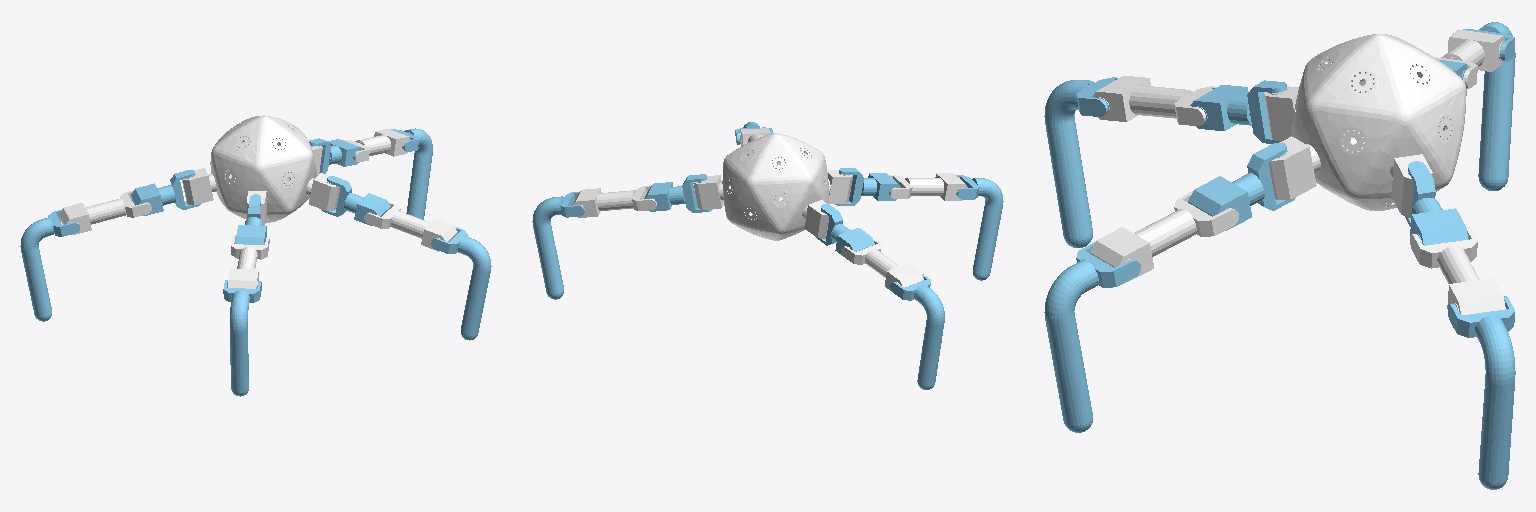
URDF robot description (spiderV1):
<?xml version="1.0" encoding="utf-8"?>
<!-- This URDF was automatically created by SolidWorks to URDF Exporter! Originally created by [author] ([email redacted]) 
     Commit Version: 1.6.0-1-g15f4949  Build Version: 1.6.7594.29634
     For more information, please see http://wiki.ros.org/sw_urdf_exporter -->
<robot
  name="spiderV1">
  <link
    name="body">
    <inertial>
      <origin
        xyz="-1.12657634616443E-06 -0.0120586213354123 0.0464637399514405"
        rpy="0 0 0" />
      <mass
        value="0.725004971927433" />
      <inertia
        ixx="0.00397015516610743"
        ixy="3.16527990957326E-09"
        ixz="2.7501749356732E-08"
        iyy="0.00509665824727541"
        iyz="-0.000112720343179442"
        izz="0.00640051298538735" />
    </inertial>
    <visual>
      <origin
        xyz="0 0 0"
        rpy="0 0 0" />
      <geometry>
        <mesh
          filename="package://spiderV1/meshes/body.STL" />
      </geometry>
      <material
        name="white">
        <color
          rgba="1 1 1 1" />
      </material>
    </visual>
    <collision>
      <origin
        xyz="0 0 0"
        rpy="0 0 0" />
      <geometry>
        <mesh
          filename="package://spiderV1/meshes/body.STL" />
      </geometry>
    </collision>
  </link>
  <link
    name="00">
    <inertial>
      <origin
        xyz="-3.39491982303403E-06 -3.39491982300627E-06 0.0634401392063371"
        rpy="0 0 0" />
      <mass
        value="0.111045661776905" />
      <inertia
        ixx="9.83066790099248E-05"
        ixy="1.27985462202571E-12"
        ixz="-6.57477758498197E-09"
        iyy="9.82820252429534E-05"
        iyz="-6.57477758503417E-09"
        izz="3.28395202168772E-05" />
    </inertial>
    <visual>
      <origin
        xyz="0 0 0"
        rpy="0 0 0" />
      <geometry>
        <mesh
          filename="package://spiderV1/meshes/00.STL" />
      </geometry>
      <material
        name="">
        <color
          rgba="0.6078431373 0.8666666667 1 1" />
      </material>
    </visual>
    <collision>
      <origin
        xyz="0 0 0"
        rpy="0 0 0" />
      <geometry>
        <mesh
          filename="package://spiderV1/meshes/00.STL" />
      </geometry>
    </collision>
  </link>
  <joint
    name="bodyto00"
    type="revolute">
    <origin
      xyz="0.12089 0.039279 0.0314"
      rpy="3.1416 -1.3821 0.31416" />
    <parent
      link="body" />
    <child
      link="00" />
    <axis
      xyz="1 0 0" />
    <limit
      lower="-1.0471975512"
      upper="1.0471975512"
      effort="2"
      velocity="0.2094396" />
  </joint>
  <link
    name="01">
    <inertial>
      <origin
        xyz="-1.31848044713778E-05 -1.31848044713639E-05 0.0862647647274989"
        rpy="0 0 0" />
      <mass
        value="0.142964243137377" />
      <inertia
        ixx="0.000240310510603849"
        ixy="2.4852770915967E-11"
        ixz="-3.81981815966254E-08"
        iyy="0.000258360340545962"
        iyz="-3.81981815965665E-08"
        izz="3.69209045828823E-05" />
    </inertial>
    <visual>
      <origin
        xyz="0 0 0"
        rpy="0 0 0" />
      <geometry>
        <mesh
          filename="package://spiderV1/meshes/01.STL" />
      </geometry>
      <material
        name="white">
        <color
          rgba="1 1 1 1" />
      </material>
    </visual>
    <collision>
      <origin
        xyz="0 0 0"
        rpy="0 0 0" />
      <geometry>
        <mesh
          filename="package://spiderV1/meshes/01.STL" />
      </geometry>
    </collision>
  </link>
  <joint
    name="00to01"
    type="revolute">
    <origin
      xyz="0 0 0.091"
      rpy="0 0 -1.5708" />
    <parent
      link="00" />
    <child
      link="01" />
    <axis
      xyz="-1 0 0" />
    <limit
      lower="-1.0471975512"
      upper="1.0471975512"
      effort="2"
      velocity="0.2094396" />
  </joint>
  <link
    name="02">
    <inertial>
      <origin
        xyz="-4.16333634234434E-17 -0.0630718737353475 0.0691609359333019"
        rpy="0 0 0" />
      <mass
        value="0.185903116212669" />
      <inertia
        ixx="0.000687979499549438"
        ixy="3.55753837846806E-19"
        ixz="1.35525271560688E-20"
        iyy="0.000110362108727967"
        iyz="0.000137773891500956"
        izz="0.000617794519777098" />
    </inertial>
    <visual>
      <origin
        xyz="0 0 0"
        rpy="0 0 0" />
      <geometry>
        <mesh
          filename="package://spiderV1/meshes/02.STL" />
      </geometry>
      <material
        name="">
        <color
          rgba="0.6078431373 0.8666666667 1 1" />
      </material>
    </visual>
    <collision>
      <origin
        xyz="0 0 0"
        rpy="0 0 0" />
      <geometry>
        <mesh
          filename="package://spiderV1/meshes/02.STL" />
      </geometry>
    </collision>
  </link>
  <joint
    name="01to02"
    type="revolute">
    <origin
      xyz="0 0 0.131"
      rpy="0 0 0" />
    <parent
      link="01" />
    <child
      link="02" />
    <axis
      xyz="-1 0 0" />
    <limit
      lower="-1.0471975512"
      upper="1.0471975512"
      effort="2"
      velocity="0.2094396" />
  </joint>
  <link
    name="10">
    <inertial>
      <origin
        xyz="-3.39491982305484E-06 -3.39491982305484E-06 0.0634401392063371"
        rpy="0 0 0" />
      <mass
        value="0.111045661776905" />
      <inertia
        ixx="9.83066790099247E-05"
        ixy="1.27985461990813E-12"
        ixz="-6.57477758498886E-09"
        iyy="9.82820252429533E-05"
        iyz="-6.57477758497319E-09"
        izz="3.28395202168772E-05" />
    </inertial>
    <visual>
      <origin
        xyz="0 0 0"
        rpy="0 0 0" />
      <geometry>
        <mesh
          filename="package://spiderV1/meshes/10.STL" />
      </geometry>
      <material
        name="">
        <color
          rgba="0.6078431373 0.8666666667 1 1" />
      </material>
    </visual>
    <collision>
      <origin
        xyz="0 0 0"
        rpy="0 0 0" />
      <geometry>
        <mesh
          filename="package://spiderV1/meshes/10.STL" />
      </geometry>
    </collision>
  </link>
  <joint
    name="bodyto10"
    type="revolute">
    <origin
      xyz="0.074713 -0.10283 0.0314"
      rpy="3.1416 -1.3821 -0.94248" />
    <parent
      link="body" />
    <child
      link="10" />
    <axis
      xyz="1 0 0" />
    <limit
      lower="-1.0471975512"
      upper="1.0471975512"
      effort="2"
      velocity="0.2094396" />
  </joint>
  <link
    name="11">
    <inertial>
      <origin
        xyz="-1.31889459462631E-05 -1.32008282054258E-05 0.0862647647244151"
        rpy="0 0 0" />
      <mass
        value="0.142964243137377" />
      <inertia
        ixx="0.000240310510607527"
        ixy="2.93953983181004E-11"
        ixz="-3.81884344862817E-08"
        iyy="0.000258360340560135"
        iyz="-3.81570309857139E-08"
        izz="3.69209045650321E-05" />
    </inertial>
    <visual>
      <origin
        xyz="0 0 0"
        rpy="0 0 0" />
      <geometry>
        <mesh
          filename="package://spiderV1/meshes/11.STL" />
      </geometry>
      <material
        name="white">
        <color
          rgba="1 1 1 1" />
      </material>
    </visual>
    <collision>
      <origin
        xyz="0 0 0"
        rpy="0 0 0" />
      <geometry>
        <mesh
          filename="package://spiderV1/meshes/11.STL" />
      </geometry>
    </collision>
  </link>
  <joint
    name="10to11"
    type="revolute">
    <origin
      xyz="0 0 0.091"
      rpy="0 0 -1.5708" />
    <parent
      link="10" />
    <child
      link="11" />
    <axis
      xyz="-1 0 0" />
    <limit
      lower="-1.0471975512"
      upper="1.0471975512"
      effort="2"
      velocity="0.2094396" />
  </joint>
  <link
    name="12">
    <inertial>
      <origin
        xyz="-1.91598807930404E-08 -0.0630718865846869 0.0691609242152382"
        rpy="0 0 0" />
      <mass
        value="0.185903116212669" />
      <inertia
        ixx="0.000687979499549397"
        ixy="-1.51693224760628E-10"
        ixz="3.79723966300542E-11"
        iyy="0.000110362057534268"
        iyz="0.000137773797225564"
        izz="0.000617794570970837" />
    </inertial>
    <visual>
      <origin
        xyz="0 0 0"
        rpy="0 0 0" />
      <geometry>
        <mesh
          filename="package://spiderV1/meshes/12.STL" />
      </geometry>
      <material
        name="">
        <color
          rgba="0.6078431373 0.8666666667 1 1" />
      </material>
    </visual>
    <collision>
      <origin
        xyz="0 0 0"
        rpy="0 0 0" />
      <geometry>
        <mesh
          filename="package://spiderV1/meshes/12.STL" />
      </geometry>
    </collision>
  </link>
  <joint
    name="11to12"
    type="revolute">
    <origin
      xyz="0 0 0.131"
      rpy="0 0 0" />
    <parent
      link="11" />
    <child
      link="12" />
    <axis
      xyz="-1 0 0" />
    <limit
      lower="-1.0471975512"
      upper="1.0471975512"
      effort="2"
      velocity="0.2094396" />
  </joint>
  <link
    name="20">
    <inertial>
      <origin
        xyz="-3.39491982309648E-06 -3.39491982300627E-06 0.0634401392063371"
        rpy="0 0 0" />
      <mass
        value="0.111045661776905" />
      <inertia
        ixx="9.83066790099249E-05"
        ixy="1.27985462668439E-12"
        ixz="-6.57477758497149E-09"
        iyy="9.82820252429534E-05"
        iyz="-6.57477758502062E-09"
        izz="3.28395202168773E-05" />
    </inertial>
    <visual>
      <origin
        xyz="0 0 0"
        rpy="0 0 0" />
      <geometry>
        <mesh
          filename="package://spiderV1/meshes/20.STL" />
      </geometry>
      <material
        name="">
        <color
          rgba="0.6078431373 0.8666666667 1 1" />
      </material>
    </visual>
    <collision>
      <origin
        xyz="0 0 0"
        rpy="0 0 0" />
      <geometry>
        <mesh
          filename="package://spiderV1/meshes/20.STL" />
      </geometry>
    </collision>
  </link>
  <joint
    name="bodyto20"
    type="revolute">
    <origin
      xyz="-0.074714 -0.10283 0.0314"
      rpy="3.1416 -1.3821 -2.1991" />
    <parent
      link="body" />
    <child
      link="20" />
    <axis
      xyz="1 0 0" />
    <limit
      lower="-1.0471975512"
      upper="1.0471975512"
      effort="2"
      velocity="0.2094396" />
  </joint>
  <link
    name="21">
    <inertial>
      <origin
        xyz="-1.31889459501766E-05 -1.31687741158001E-05 0.0862647647293143"
        rpy="0 0 0" />
      <mass
        value="0.142964243137377" />
      <inertia
        ixx="0.000240310510607527"
        ixy="2.93812082377152E-11"
        ixz="-3.81884344878233E-08"
        iyy="0.000258360340531748"
        iyz="-3.82393130107307E-08"
        izz="3.69209045934193E-05" />
    </inertial>
    <visual>
      <origin
        xyz="0 0 0"
        rpy="0 0 0" />
      <geometry>
        <mesh
          filename="package://spiderV1/meshes/21.STL" />
      </geometry>
      <material
              name="white">
        <color
          rgba="1 1 1 1" />
      </material>
    </visual>
    <collision>
      <origin
        xyz="0 0 0"
        rpy="0 0 0" />
      <geometry>
        <mesh
          filename="package://spiderV1/meshes/21.STL" />
      </geometry>
    </collision>
  </link>
  <joint
    name="20to21"
    type="revolute">
    <origin
      xyz="0 0 0.091"
      rpy="0 0 -1.5708" />
    <parent
      link="20" />
    <child
      link="21" />
    <axis
      xyz="-1 0 0" />
    <limit
      lower="-1.0471975512"
      upper="1.0471975512"
      effort="2"
      velocity="0.2094396" />
  </joint>
  <link
    name="22">
    <inertial>
      <origin
        xyz="-1.91598834298201E-08 -0.0630718608860034 0.0691609476513601"
        rpy="0 0 0" />
      <mass
        value="0.185903116212669" />
      <inertia
        ixx="0.000687979499549397"
        ixy="-1.51693212664997E-10"
        ixz="3.79724550685513E-11"
        iyy="0.000110362159921767"
        iyz="0.000137773985776294"
        izz="0.000617794468583337" />
    </inertial>
    <visual>
      <origin
        xyz="0 0 0"
        rpy="0 0 0" />
      <geometry>
        <mesh
          filename="package://spiderV1/meshes/22.STL" />
      </geometry>
      <material
        name="">
        <color
          rgba="0.6078431373 0.8666666667 1 1" />
      </material>
    </visual>
    <collision>
      <origin
        xyz="0 0 0"
        rpy="0 0 0" />
      <geometry>
        <mesh
          filename="package://spiderV1/meshes/22.STL" />
      </geometry>
    </collision>
  </link>
  <joint
    name="21to22"
    type="revolute">
    <origin
      xyz="0 0 0.131"
      rpy="0 0 0" />
    <parent
      link="21" />
    <child
      link="22" />
    <axis
      xyz="-1 0 0" />
    <limit
      lower="-1.0471975512"
      upper="1.0471975512"
      effort="2"
      velocity="0.2094396" />
  </joint>
  <link
    name="30">
    <inertial>
      <origin
        xyz="-3.3949198230826E-06 -3.39491982307566E-06 0.0634401392063371"
        rpy="0 0 0" />
      <mass
        value="0.111045661776905" />
      <inertia
        ixx="9.83066790099248E-05"
        ixy="1.27985461651999E-12"
        ixz="-6.57477758496419E-09"
        iyy="9.82820252429533E-05"
        iyz="-6.57477758499097E-09"
        izz="3.28395202168772E-05" />
    </inertial>
    <visual>
      <origin
        xyz="0 0 0"
        rpy="0 0 0" />
      <geometry>
        <mesh
          filename="package://spiderV1/meshes/30.STL" />
      </geometry>
      <material
        name="">
        <color
          rgba="0.6078431373 0.8666666667 1 1" />
      </material>
    </visual>
    <collision>
      <origin
        xyz="0 0 0"
        rpy="0 0 0" />
      <geometry>
        <mesh
          filename="package://spiderV1/meshes/30.STL" />
      </geometry>
    </collision>
  </link>
  <joint
    name="bodyto30"
    type="revolute">
    <origin
      xyz="-0.12089 0.039279 0.0314"
      rpy="3.1416 -1.3821 2.8274" />
    <parent
      link="body" />
    <child
      link="30" />
    <axis
      xyz="1 0 0" />
    <limit
      lower="-1.0471975512"
      upper="1.0471975512"
      effort="2"
      velocity="0.2094396" />
  </joint>
  <link
    name="31">
    <inertial>
      <origin
        xyz="-1.31848044713639E-05 -1.31848044712252E-05 0.0862647647274988"
        rpy="0 0 0" />
      <mass
        value="0.142964243137377" />
      <inertia
        ixx="0.00024031051060385"
        ixy="2.48527709396839E-11"
        ixz="-3.8198181596705E-08"
        iyy="0.000258360340545963"
        iyz="-3.81981815969703E-08"
        izz="3.69209045828824E-05" />
    </inertial>
    <visual>
      <origin
        xyz="0 0 0"
        rpy="0 0 0" />
      <geometry>
        <mesh
          filename="package://spiderV1/meshes/31.STL" />
      </geometry>
      <material
        name="white">
        <color
          rgba="1 1 1 1" />
      </material>
    </visual>
    <collision>
      <origin
        xyz="0 0 0"
        rpy="0 0 0" />
      <geometry>
        <mesh
          filename="package://spiderV1/meshes/31.STL" />
      </geometry>
    </collision>
  </link>
  <joint
    name="30to31"
    type="revolute">
    <origin
      xyz="0 0 0.091"
      rpy="0 0 -1.5708" />
    <parent
      link="30" />
    <child
      link="31" />
    <axis
      xyz="-1 0 0" />
    <limit
      lower="-1.0471975512"
      upper="1.0471975512"
      effort="2"
      velocity="0.2094396" />
  </joint>
  <link
    name="32">
    <inertial>
      <origin
        xyz="1.66533453693773E-16 -0.0630718737353471 0.0691609359333021"
        rpy="0 0 0" />
      <mass
        value="0.185903116212669" />
      <inertia
        ixx="0.000687979499549438"
        ixy="8.06375365786094E-19"
        ixz="-2.43945488809238E-19"
        iyy="0.000110362108727968"
        iyz="0.000137773891500958"
        izz="0.000617794519777097" />
    </inertial>
    <visual>
      <origin
        xyz="0 0 0"
        rpy="0 0 0" />
      <geometry>
        <mesh
          filename="package://spiderV1/meshes/32.STL" />
      </geometry>
      <material
        name="">
        <color
          rgba="0.6078431373 0.8666666667 1 1" />
      </material>
    </visual>
    <collision>
      <origin
        xyz="0 0 0"
        rpy="0 0 0" />
      <geometry>
        <mesh
          filename="package://spiderV1/meshes/32.STL" />
      </geometry>
    </collision>
  </link>
  <joint
    name="31to32"
    type="revolute">
    <origin
      xyz="0 0 0.131"
      rpy="0 0 0" />
    <parent
      link="31" />
    <child
      link="32" />
    <axis
      xyz="-1 0 0" />
    <limit
      lower="-1.0471975512"
      upper="1.0471975512"
      effort="2"
      velocity="0.2094396" />
  </joint>
</robot>

--- What the picture shows (computed from the rendered views, not written in the file) ---
Views: 3 orthographic renders of the robot side by side, from view 1: azimuth 30°, elevation 25°; view 2: azimuth 150°, elevation 25°; view 3: azimuth 270°, elevation 25°.
Robot: spiderV1 — 13 links, 12 joints (12 revolute); root link body; default pose: every joint at zero.
Visible links, largest first — view 1: body, 32, 12, 22, 02, 11, 31, 10, 21, 30, 01, 00 (+1 smaller); view 2: body, 02, 32, 22, 01, 31, 21, 00, 20, 30; view 3: body, 12, 02, 22, 11, 32, 01, 21, 10, 20, 00, 31.
Boxes of the visible links, x1,y1,x2,y2 form: body: (182,115,340,225); 32: (20,210,79,321); 12: (431,227,491,340); 22: (223,280,261,396); 02: (391,128,432,219); 11: (364,201,457,251); 31: (59,190,151,234); 10: (321,176,390,225); 21: (228,236,269,288); 30: (131,170,201,215); 01: (343,129,410,162); 00: (309,138,361,175); body: (693,133,852,240); 02: (532,192,584,299); 32: (890,274,944,389); 22: (956,175,1003,280); 01: (572,185,656,217); 31: (841,237,923,290); 21: (889,173,967,200); 00: (644,174,712,212); 20: (835,168,900,205); 30: (816,204,874,256); body: (1264,34,1466,217); 12: (1044,242,1140,432); 02: (1448,296,1515,489); 22: (1044,77,1118,247); 11: (1090,191,1238,281); 32: (1448,22,1515,190); 01: (1410,227,1505,314); 21: (1092,76,1216,125); 10: (1188,142,1295,230); 20: (1190,80,1286,143); 00: (1405,161,1468,245); 31: (1434,30,1504,88).
Bounding box of the posed robot: 0.8294 × 0.5006 × 0.3565 m (x, y, z).
13 mesh visuals loaded from 13 distinct referenced files (13 binary STL).